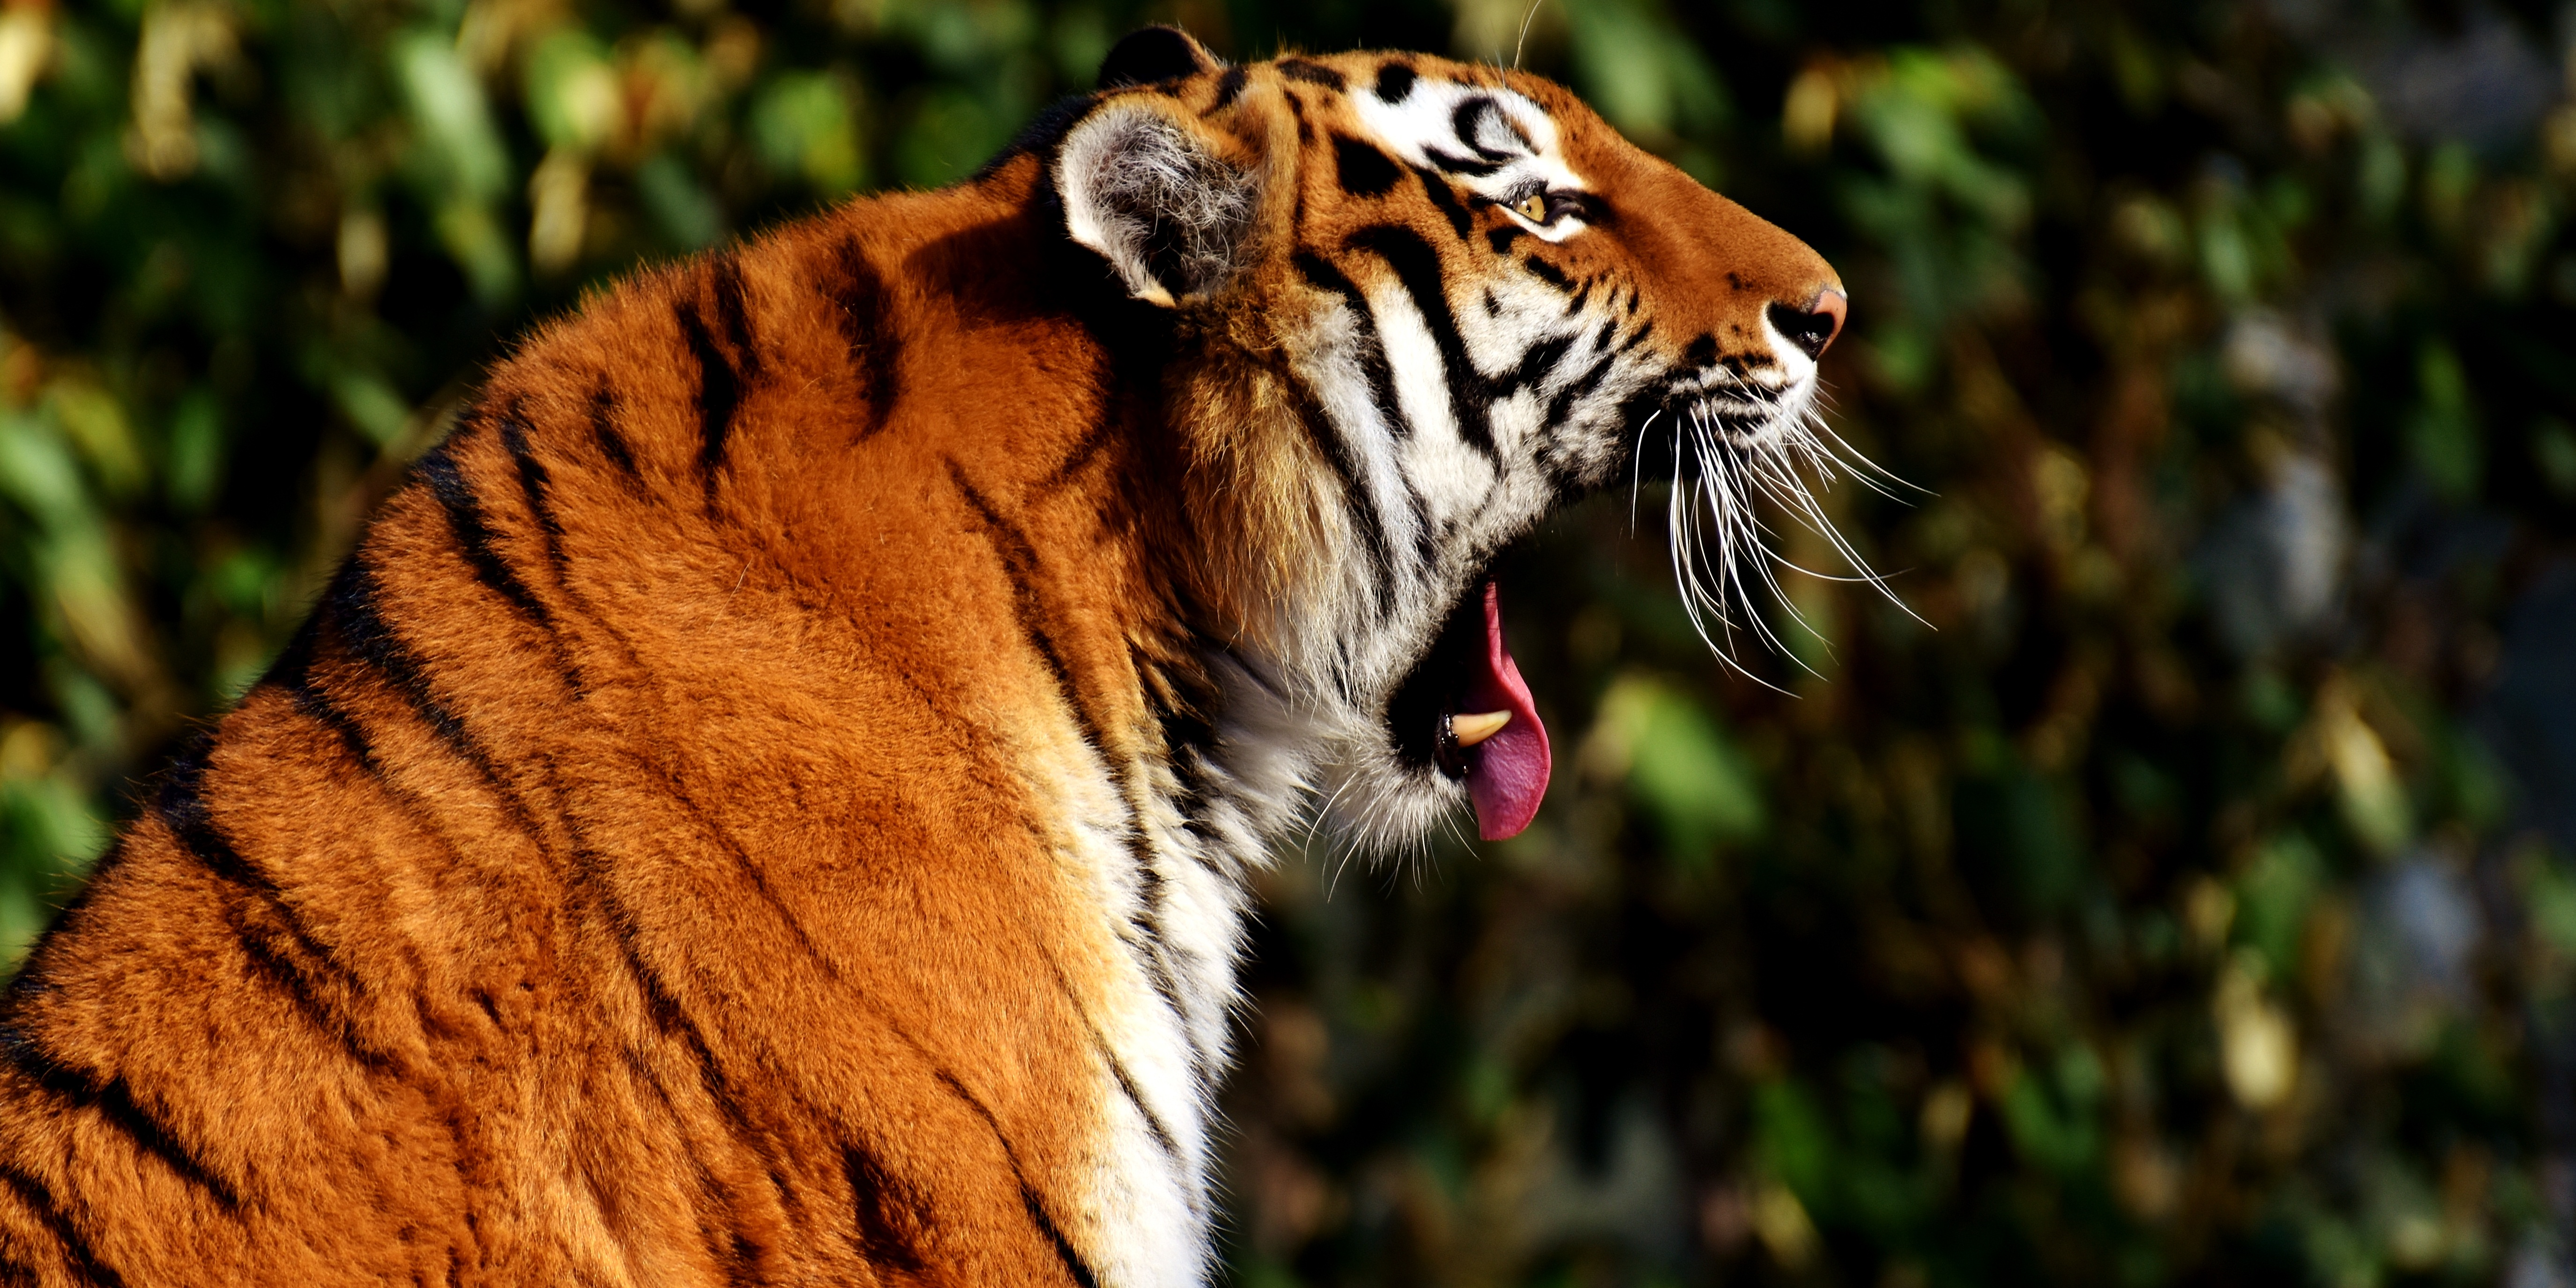tiger: (131, 51, 1873, 1250)
